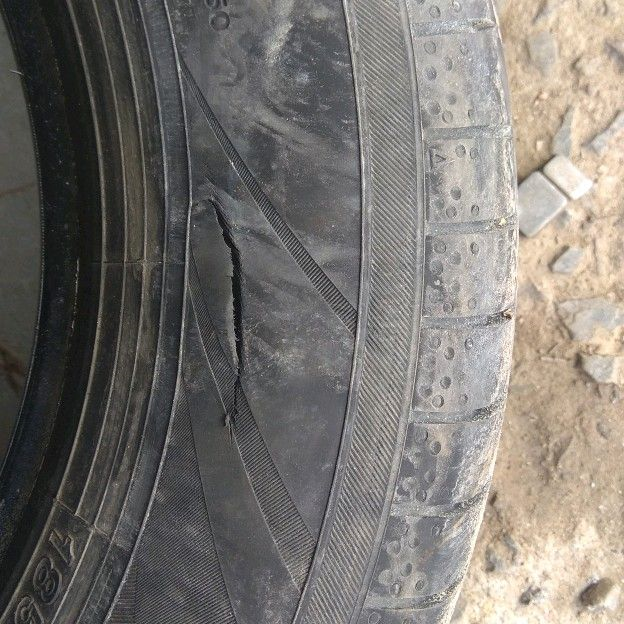cut: (203, 196, 248, 449)
